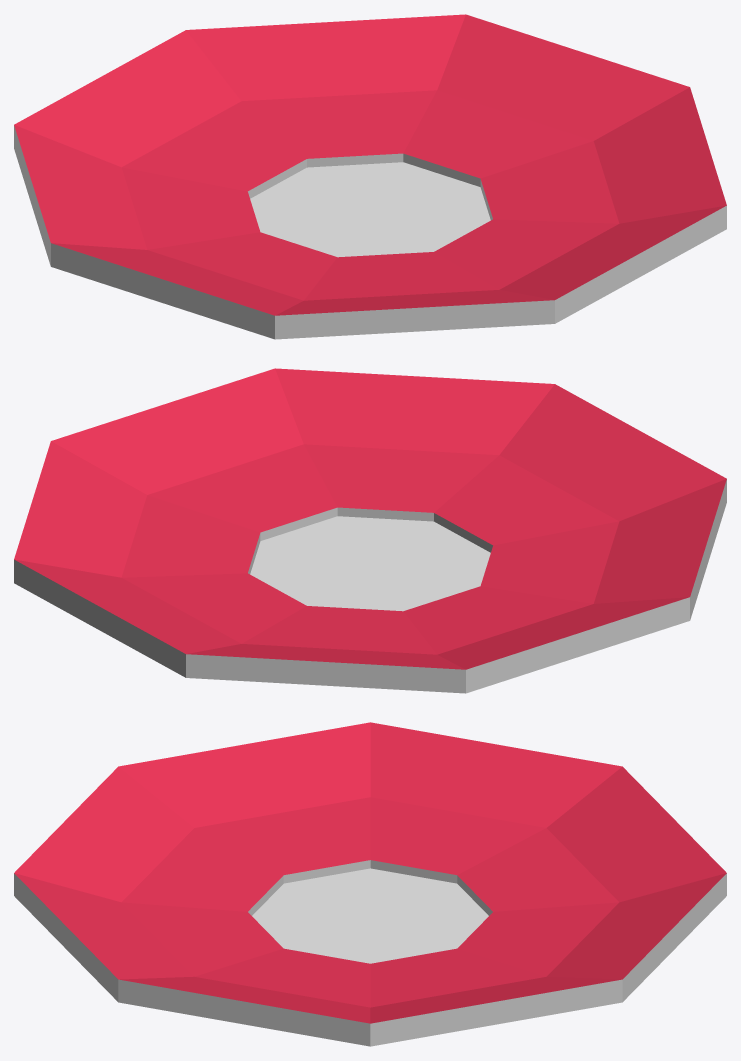
The model's file is C_Plate_Small_3.fbx.
3 views of the same model, one above another, from view 1: azimuth 30°, elevation 25°; view 2: azimuth 150°, elevation 25°; view 3: azimuth 270°, elevation 25° (orthographic). The views are drawn at different scales.
Parts seen in each view (by area): view 1: C_Plate_Small_3; view 2: C_Plate_Small_3; view 3: C_Plate_Small_3.
Boxes of the visible parts, bbox=[...] form: C_Plate_Small_3: bbox=[14, 14, 726, 339]; C_Plate_Small_3: bbox=[14, 368, 726, 693]; C_Plate_Small_3: bbox=[14, 722, 726, 1046].
Size of the model in its own units: 94.86 by 94.86 by 10.31.
